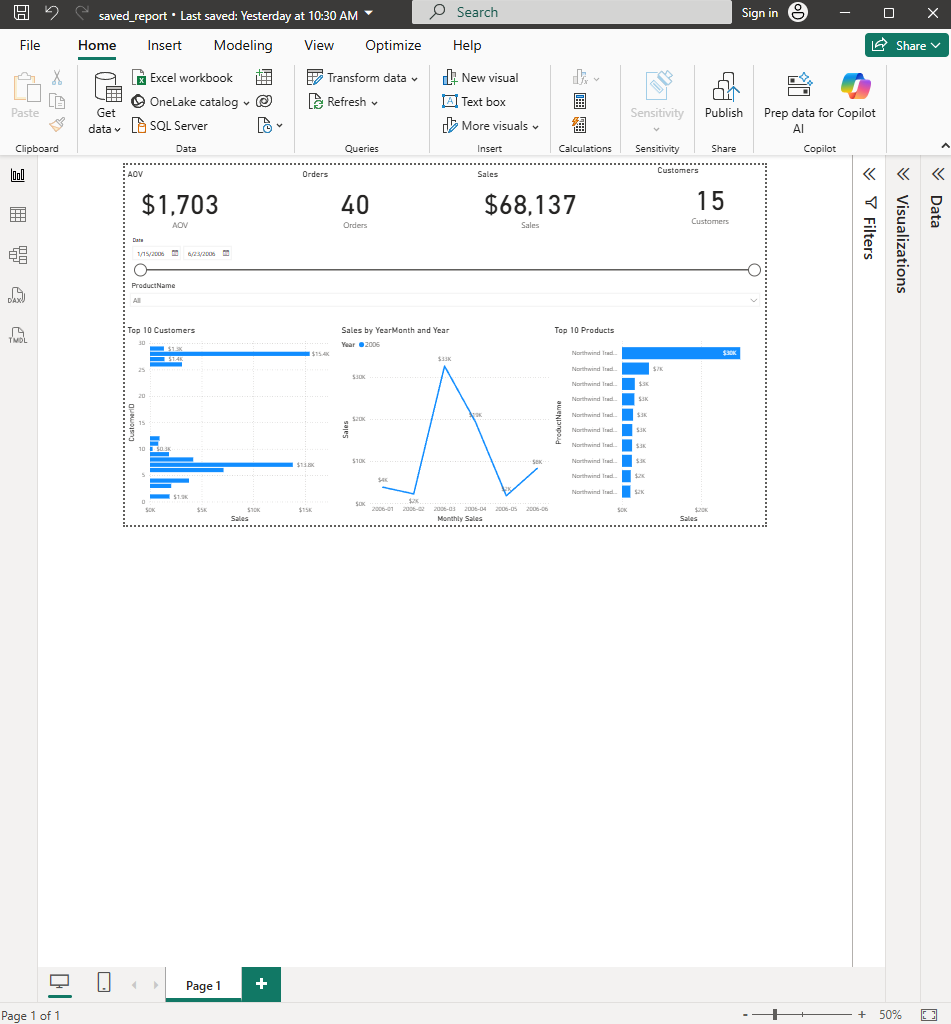

This screenshot's page, from the dashboard's own definition file:
{"tool":"powerbi","page":{"name":"Page 1","canvas":[1280,720],"ordinal":0},"visuals":[{"type":"card","title":"Sales","fields":{"Values":["Date.Sales"]},"box":[0,0,220,130],"z":0},{"type":"card","title":"Orders","fields":{"Values":["Date.Orders"]},"box":[700,0,220.7,130],"z":1000},{"type":"card","title":"Customers","fields":{"Values":["Date.Customers"]},"box":[1059.3,0,220.7,130],"z":2000},{"type":"card","title":"AOV","fields":{"Values":["Date.AOV"]},"box":[350,0,220,130],"z":3000},{"type":"slicer","title":"Monthly Sales","fields":{"Values":["Date.Date"]},"box":[2,138,1278,106],"z":4000},{"type":"slicer","fields":{"Values":["OrderLines.ProductName"]},"box":[0,244,1280,90],"z":5000},{"type":"lineChart","fields":{"Category":["Date.YearMonth"],"Y":["Date.Sales"],"Series":["Date.Year"]},"box":[428,334,428,386],"z":6000},{"type":"clusteredBarChart","title":"Top 10 Products","fields":{"Category":["OrderLines.ProductName"],"Y":["Date.Sales"]},"box":[854,334,426,386],"z":7000},{"type":"clusteredBarChart","title":"Top 10 Customers","fields":{"Y":["Date.Sales"],"Category":["OrderLines.CustomerID_Text"]},"box":[0,333.6,428,386.1],"z":8000}]}

Visuals, with their boxes on the page's 1280x720 design canvas (x1, y1, x2, y2). These are canvas units, not pixel positions in the 951x1024 screenshot, which may show the page scaled, cropped or inside an application window:
"Sales" card: 0, 0, 220, 130
"Orders" card: 700, 0, 921, 130
"Customers" card: 1059, 0, 1280, 130
"AOV" card: 350, 0, 570, 130
"Monthly Sales" slicer: 2, 138, 1280, 244
slicer - OrderLines.ProductName: 0, 244, 1280, 334
lineChart - Date.YearMonth x Date.Sales: 428, 334, 856, 720
"Top 10 Products" clusteredBarChart: 854, 334, 1280, 720
"Top 10 Customers" clusteredBarChart: 0, 334, 428, 720
